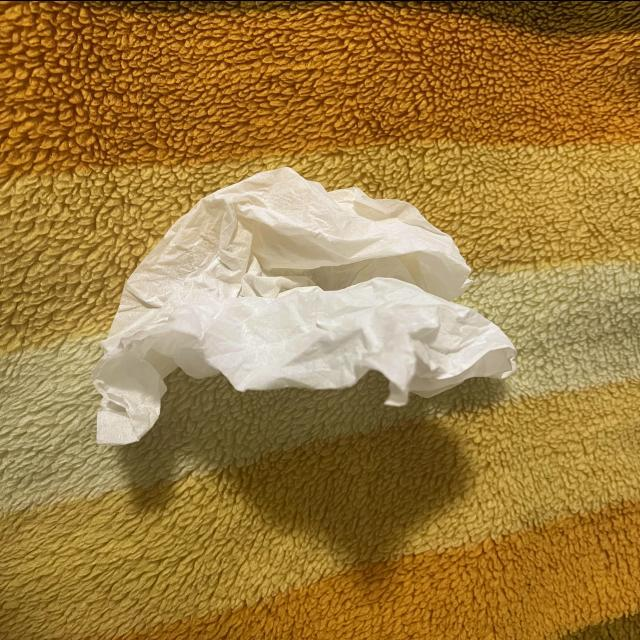Paper: (97, 163, 516, 439)
